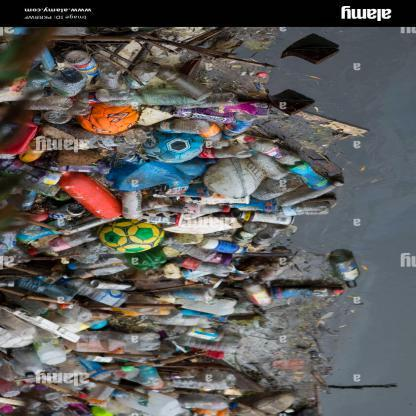Plastic: (57, 175, 126, 222), (50, 131, 128, 154), (274, 180, 342, 205), (244, 139, 300, 169), (269, 283, 342, 303), (110, 93, 208, 107), (333, 255, 359, 292), (120, 189, 143, 227), (243, 213, 294, 229), (244, 283, 273, 309)
